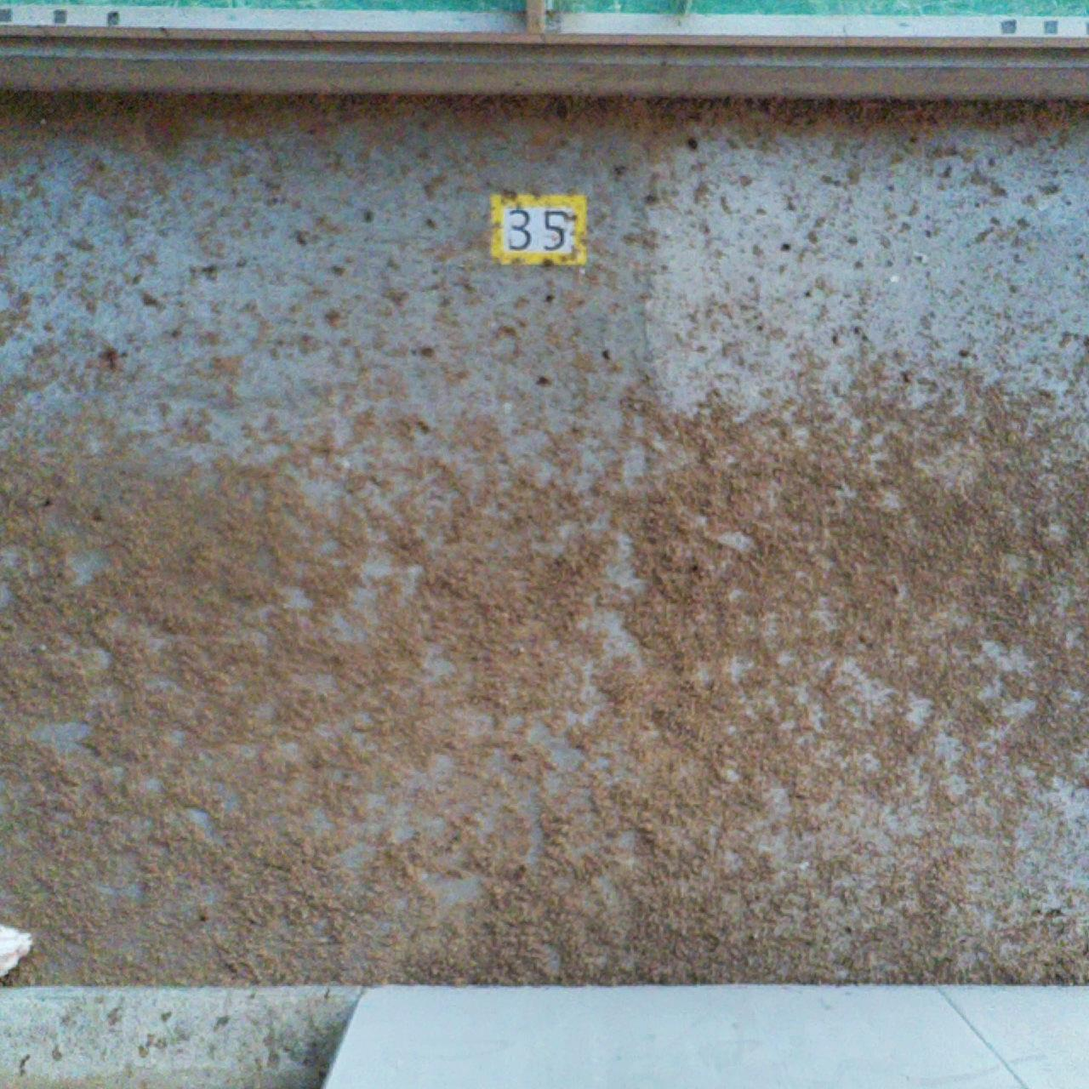chicken: (2, 920, 32, 984)
